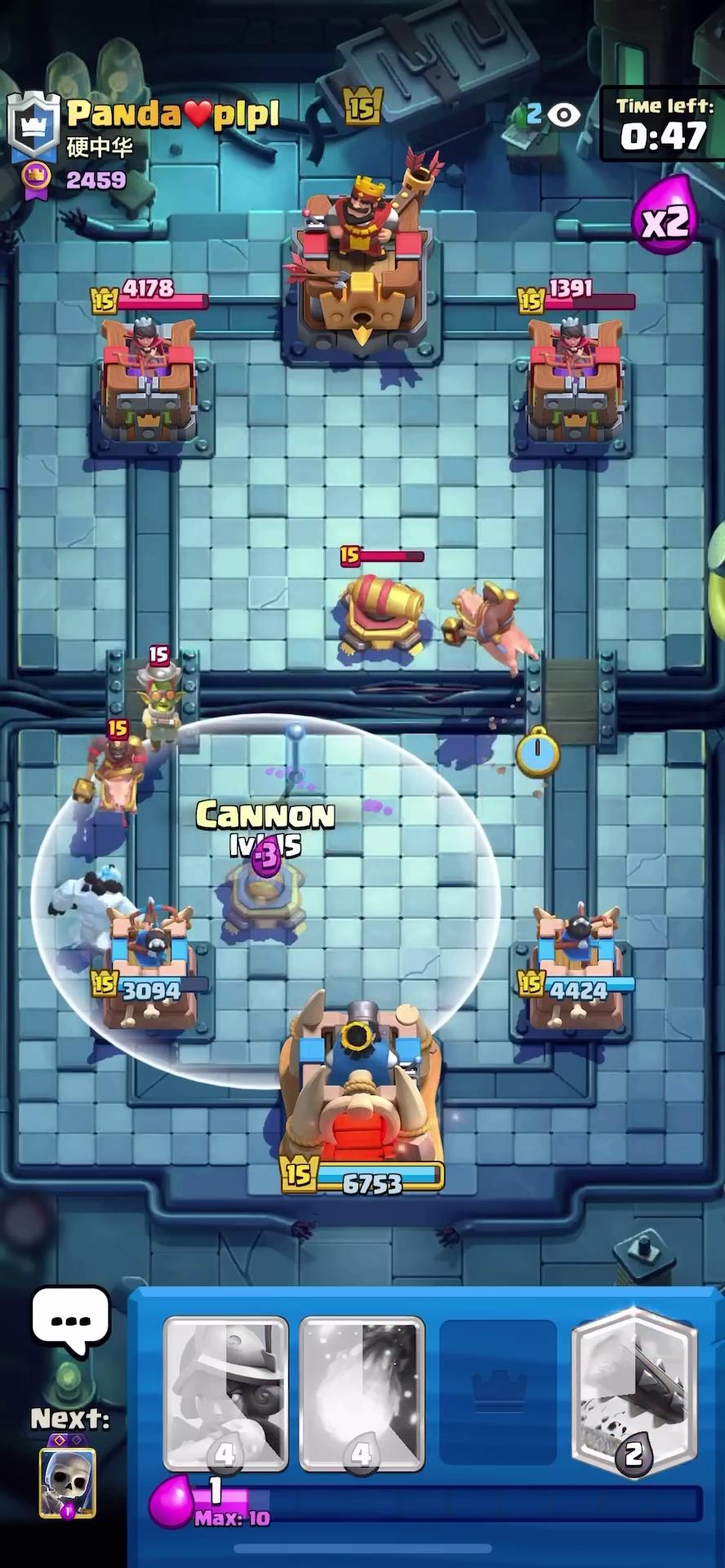hog_rider: (439, 570, 549, 690)
ice_golem: (59, 855, 157, 941)
